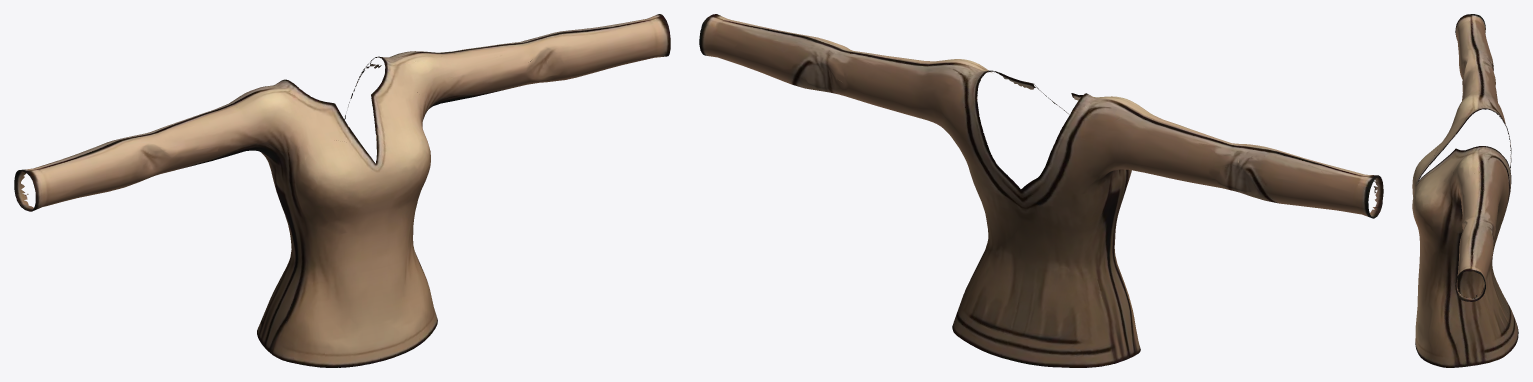
File: assassin_f_shirt.glb
3 views of the same model, side by side, from view 1: azimuth 30°, elevation 25°; view 2: azimuth 150°, elevation 25°; view 3: azimuth 270°, elevation 25° (orthographic). The views are drawn at different scales.
Parts seen in each view (by area): view 1: lo; view 2: lo; view 3: lo.
Part boxes in pixels (left/top/right/bottom): lo: left=14, top=14, right=670, bottom=367; lo: left=699, top=14, right=1383, bottom=367; lo: left=1412, top=14, right=1518, bottom=367.
Bounding box in the file's own units: 1.38 × 0.54 × 0.2404.
Materials: 1 (1 with a texture image).
